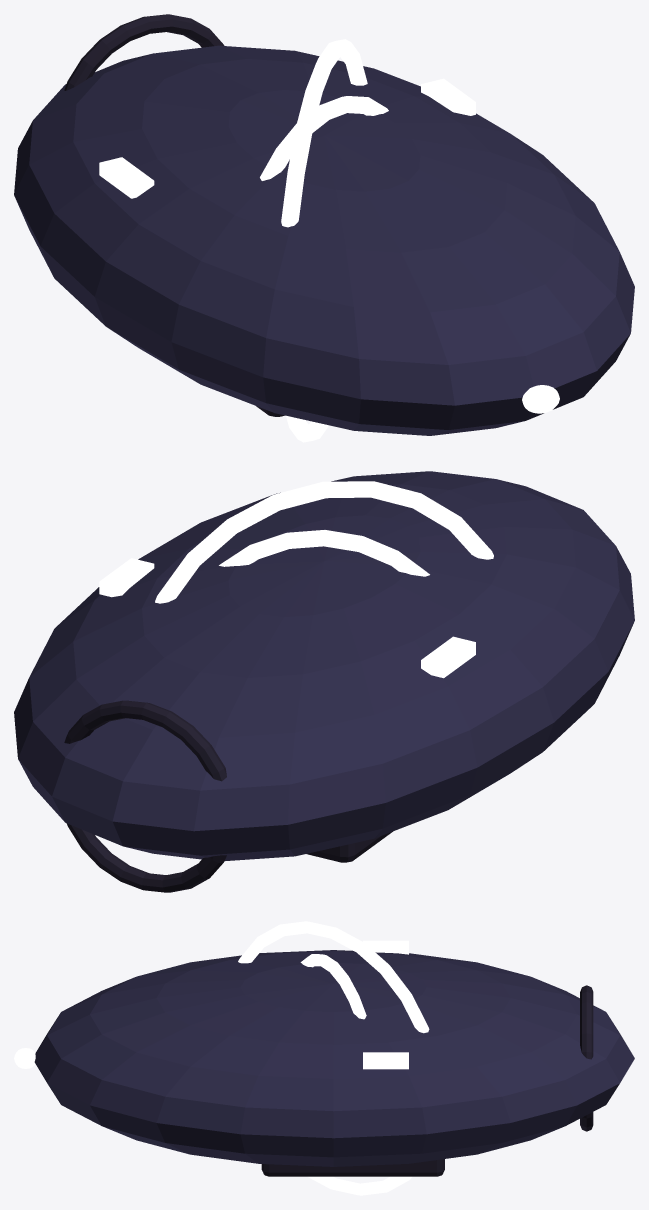
3 views of the same model, one above another, from view 1: azimuth 30°, elevation 25°; view 2: azimuth 150°, elevation 25°; view 3: azimuth 270°, elevation 25° (orthographic). The views are drawn at different scales.
Visible parts, largest first — view 1: RIMWARD_HULL, RIMWARD_EMISSIVE, RIMWARD_ENGINE_GLOW; view 2: RIMWARD_HULL, RIMWARD_EMISSIVE; view 3: RIMWARD_HULL, RIMWARD_EMISSIVE.
Part boxes in pixels (x1,y1,x2,y2): RIMWARD_HULL: (14, 14, 634, 435); RIMWARD_EMISSIVE: (99, 39, 475, 442); RIMWARD_ENGINE_GLOW: (522, 385, 559, 413); RIMWARD_HULL: (14, 471, 634, 892); RIMWARD_EMISSIVE: (99, 481, 493, 678); RIMWARD_HULL: (34, 950, 634, 1176); RIMWARD_EMISSIVE: (238, 921, 429, 1195).
Bounding box in the file's own units: 6.34 × 4.86 × 10.43.
